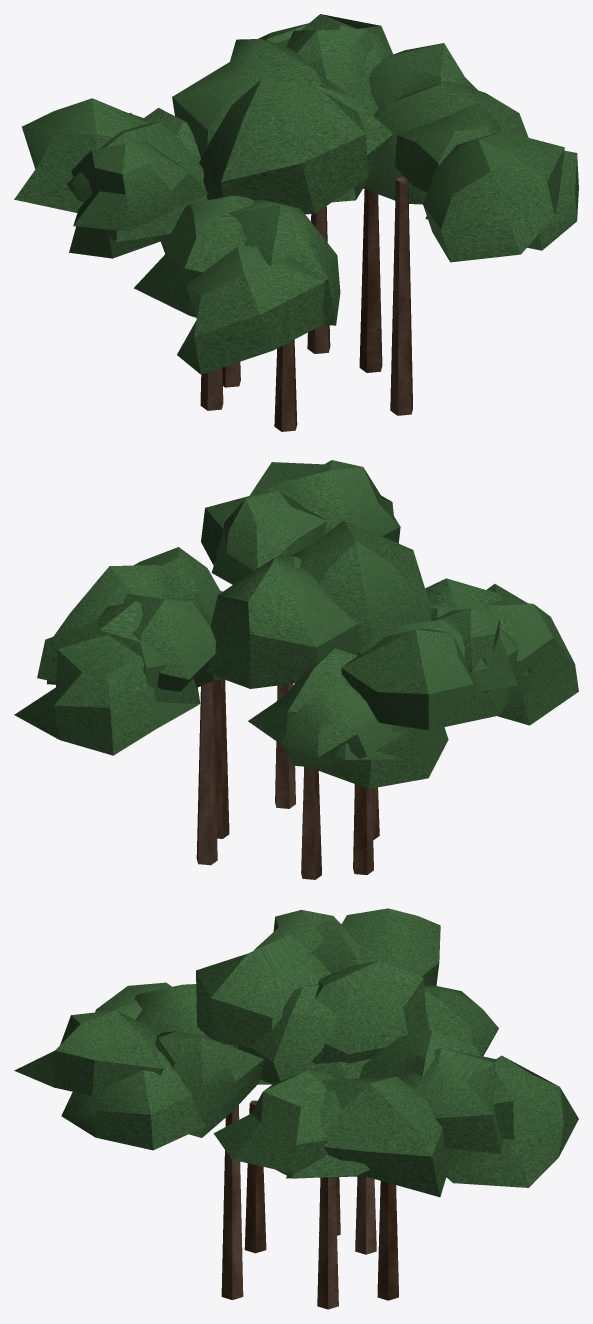
File: shrub_2.glb
The picture shows the model from 3 angles, top to bottom: view 1: azimuth 30°, elevation 25°; view 2: azimuth 150°, elevation 25°; view 3: azimuth 270°, elevation 25°; orthographic projection. The views are drawn at different scales.
Visible parts, largest first — view 1: shrub_2; view 2: shrub_2; view 3: shrub_2.
Boxes of the visible parts, box(x1,y1,x2,y2) form: shrub_2: box(14, 14, 578, 431); shrub_2: box(14, 460, 578, 879); shrub_2: box(14, 908, 578, 1309).
Size of the model in its own units: 2.44 by 1.66 by 2.73.
2 materials, 2 textured.
